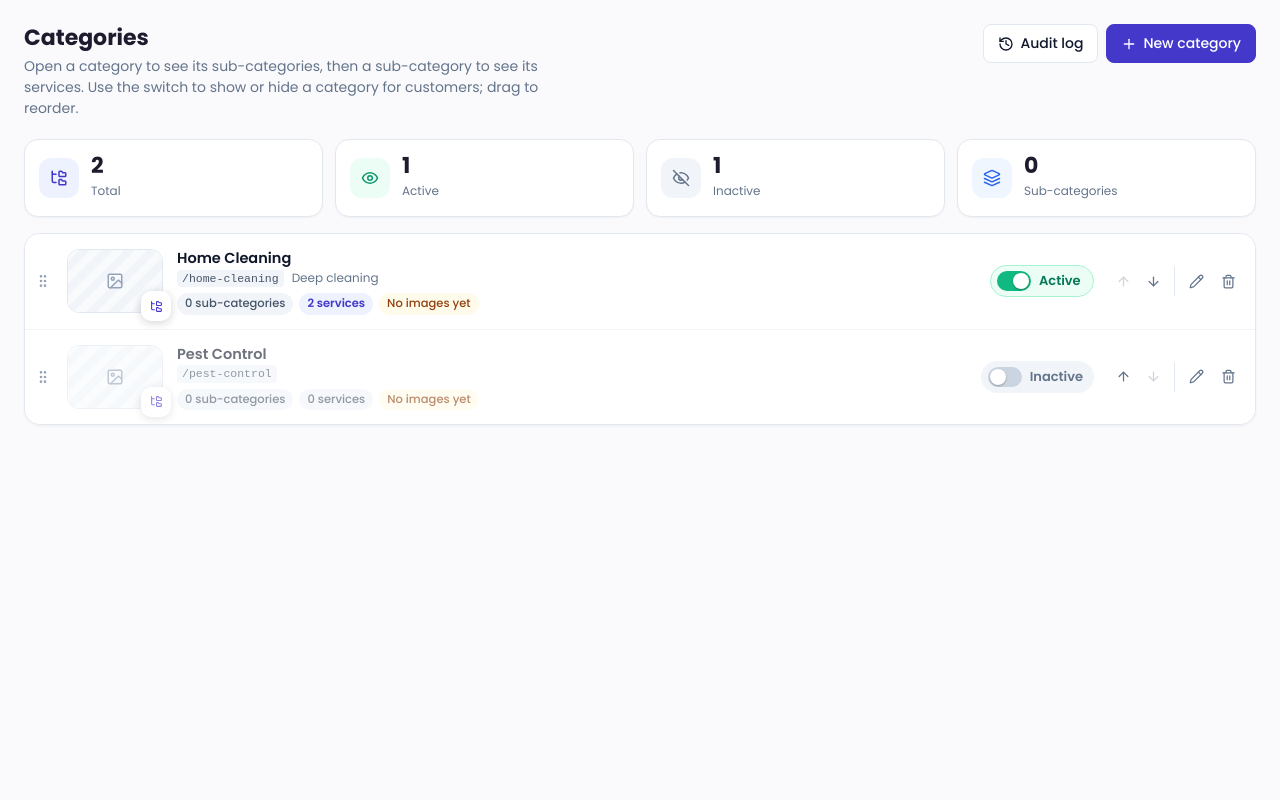
Scenario: Admin categories page › a 409 on delete is shown as an error and does not switch to demo data
Expected: the text "Pest Control" is shown, [177,344,266,366]
Click the button named "Delete Pest Control".
click(1228, 377)  # box [1213,362,1243,392]
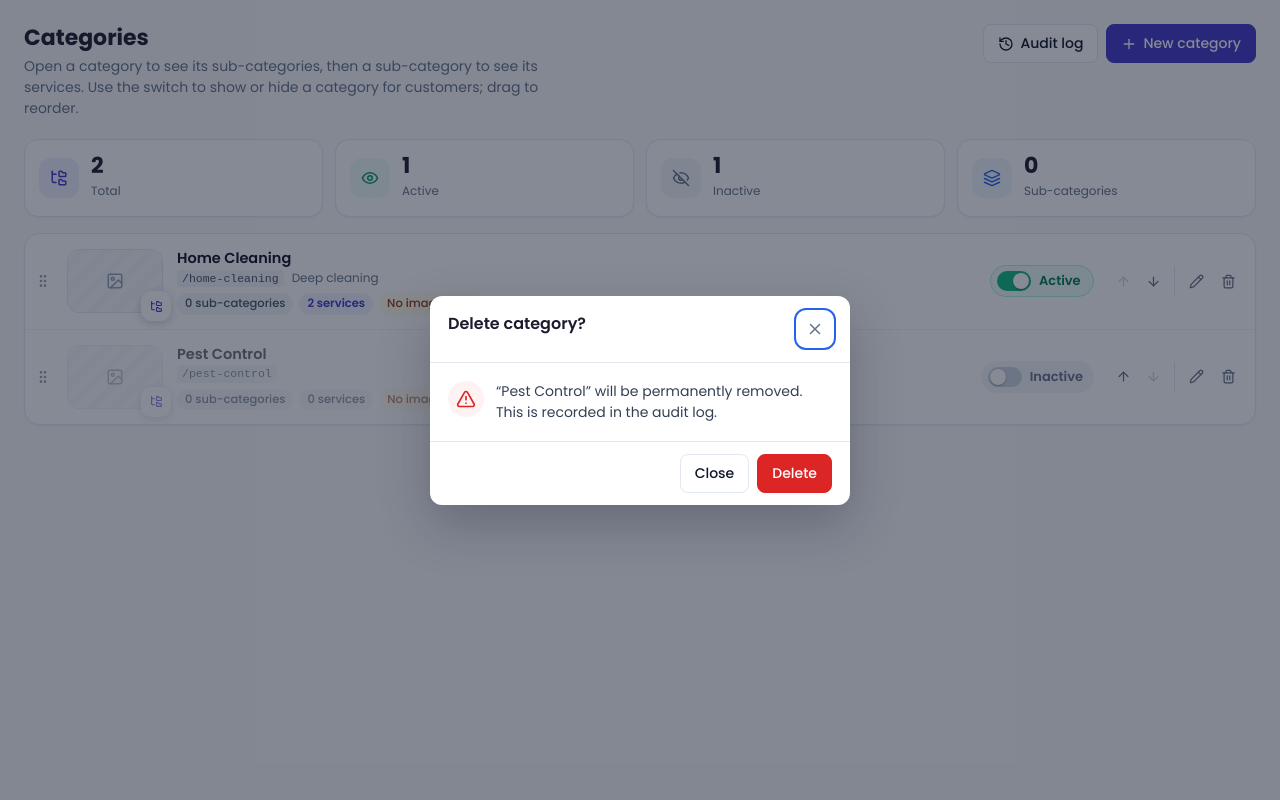
Click the button "Delete".
click(795, 473)  # box [757,454,832,492]
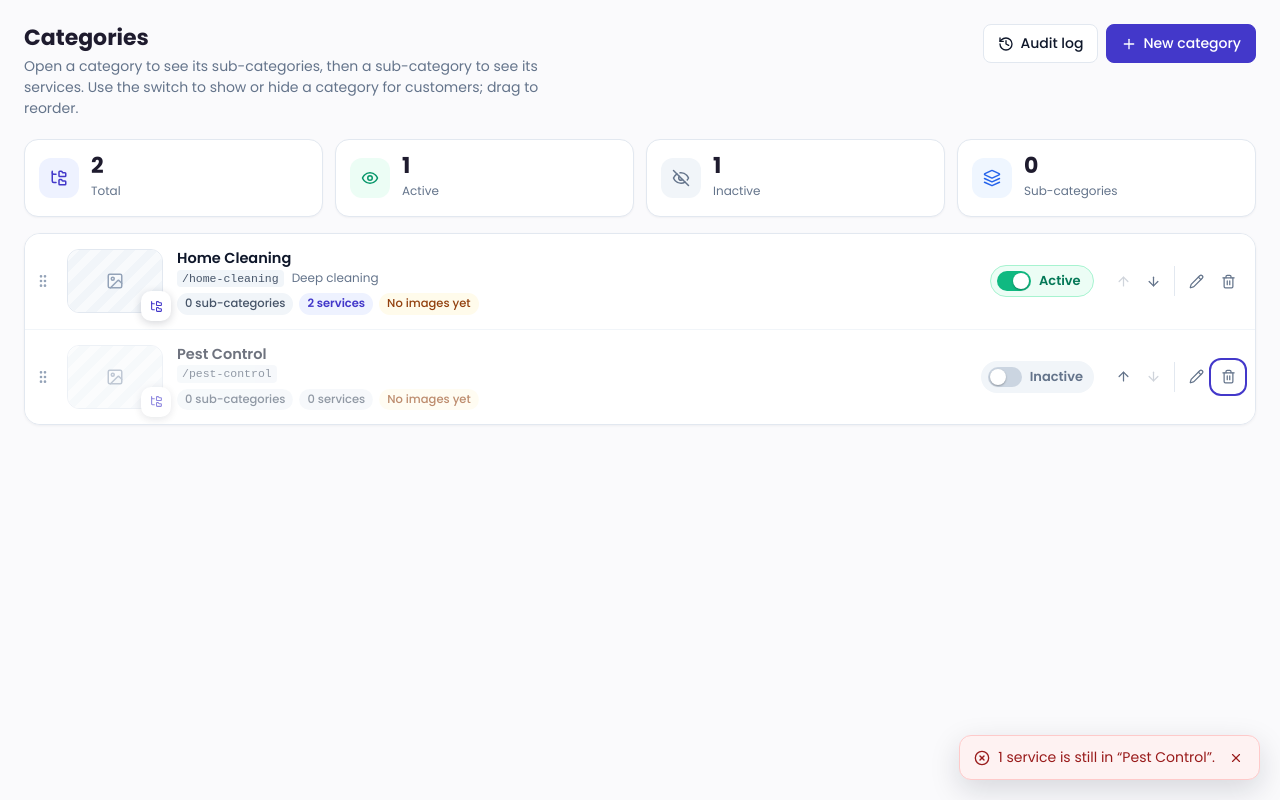
Now the text "1 service is still in “Pest Control”." is shown, box [998,747,1215,768]
